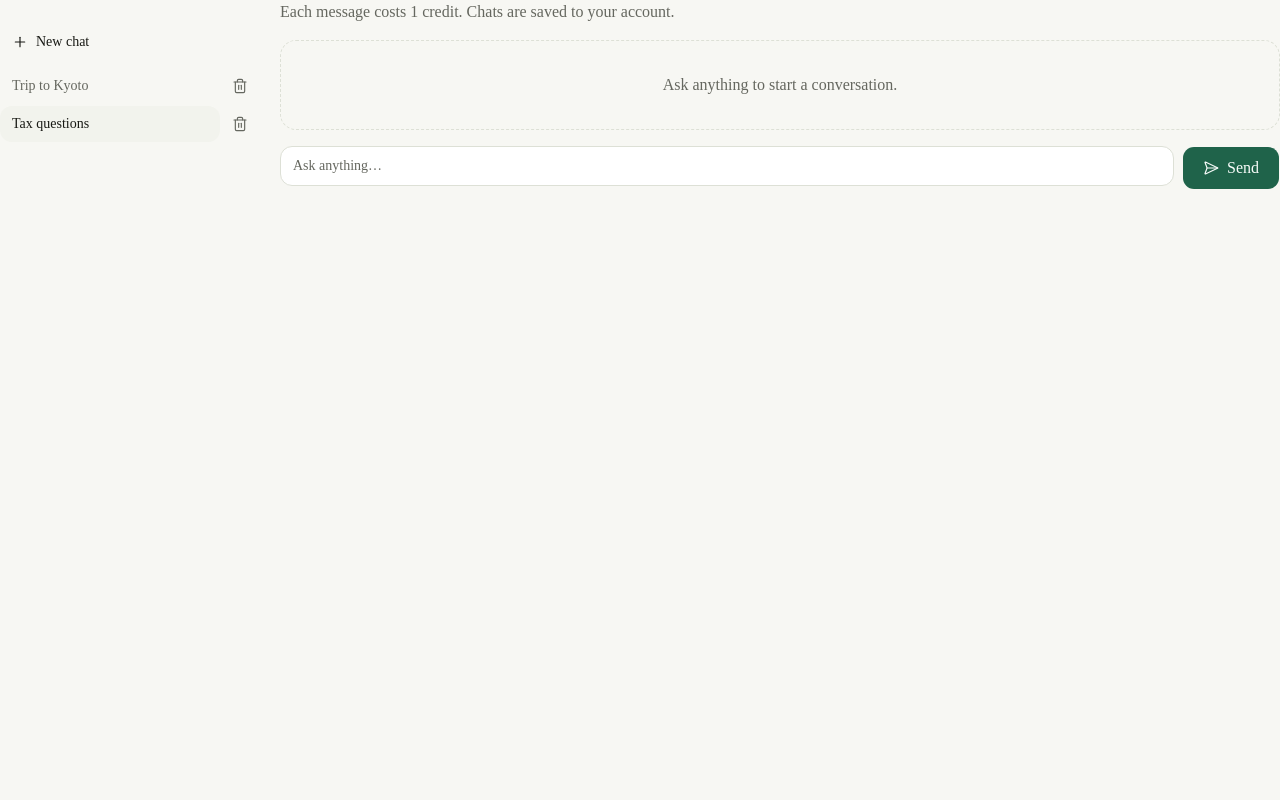
Scenario: keeps the chat and says so when deleting fails
Click the button named "Delete “Trip to Kyoto”" at (240, 86), box [224,70,256,102]
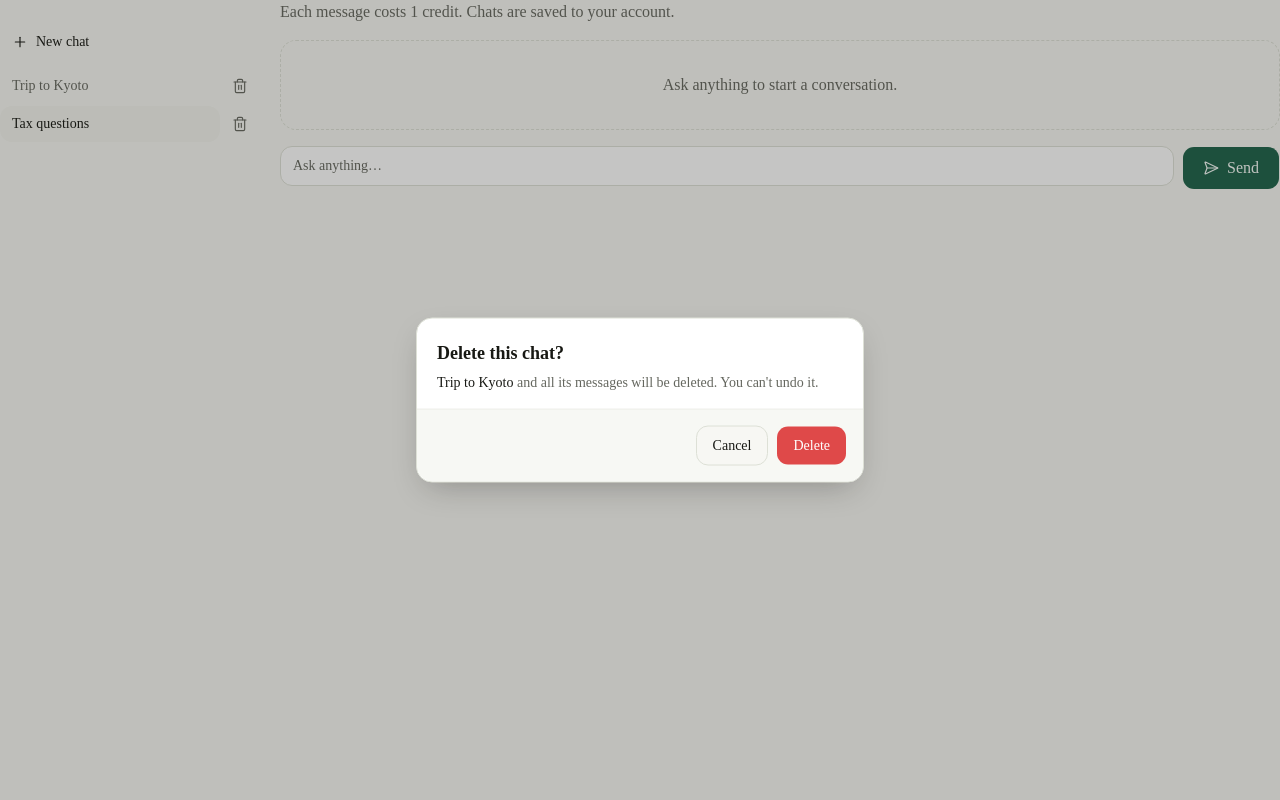
Click the button "Delete" at (812, 446), box [776,426,847,466]
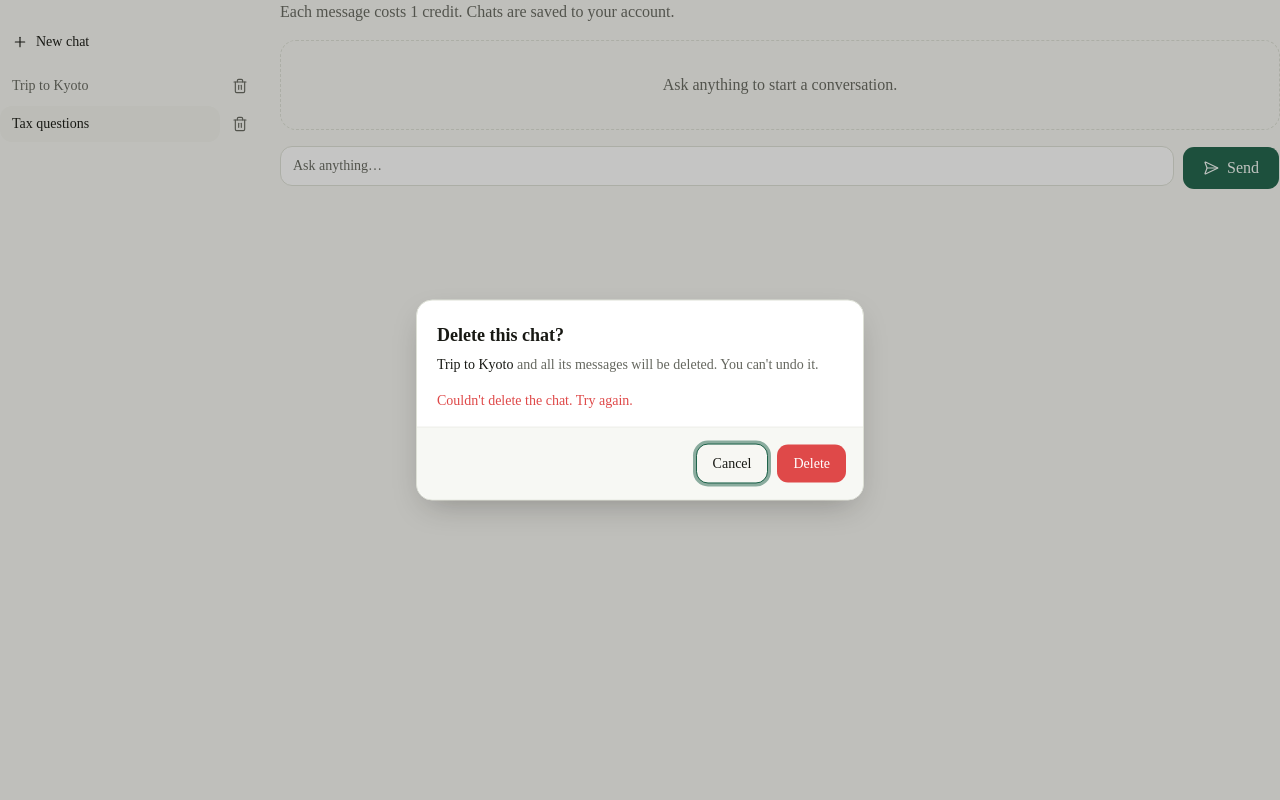
Expected: the link "Trip to Kyoto" is shown, [12,78,88,93]
Now the text "Couldn't delete the chat. Try again." is shown, box [437,392,633,408]
